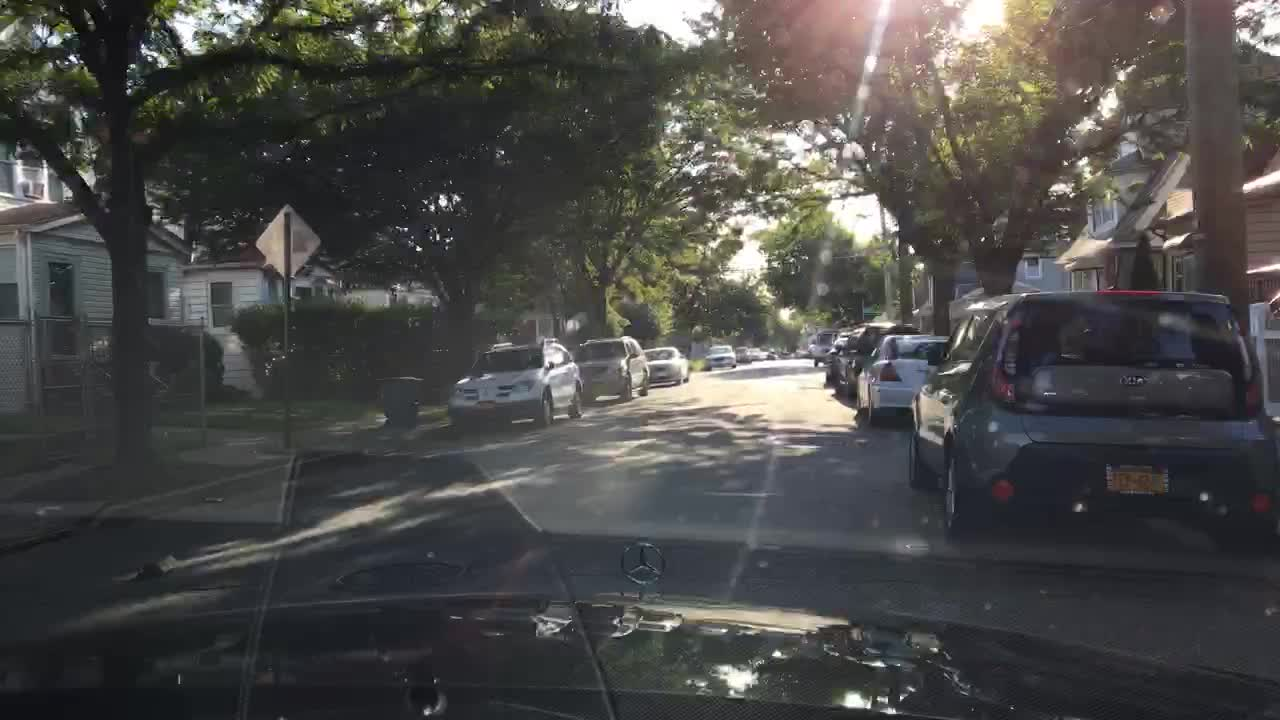car: (905, 286, 1280, 556), (446, 338, 583, 427), (856, 335, 948, 425), (833, 326, 914, 399), (575, 335, 650, 402), (644, 344, 692, 390), (825, 329, 851, 381), (702, 342, 738, 372), (811, 332, 837, 364), (733, 346, 751, 362), (751, 347, 767, 359), (765, 349, 779, 361)
traffic sign: (254, 206, 325, 279)
